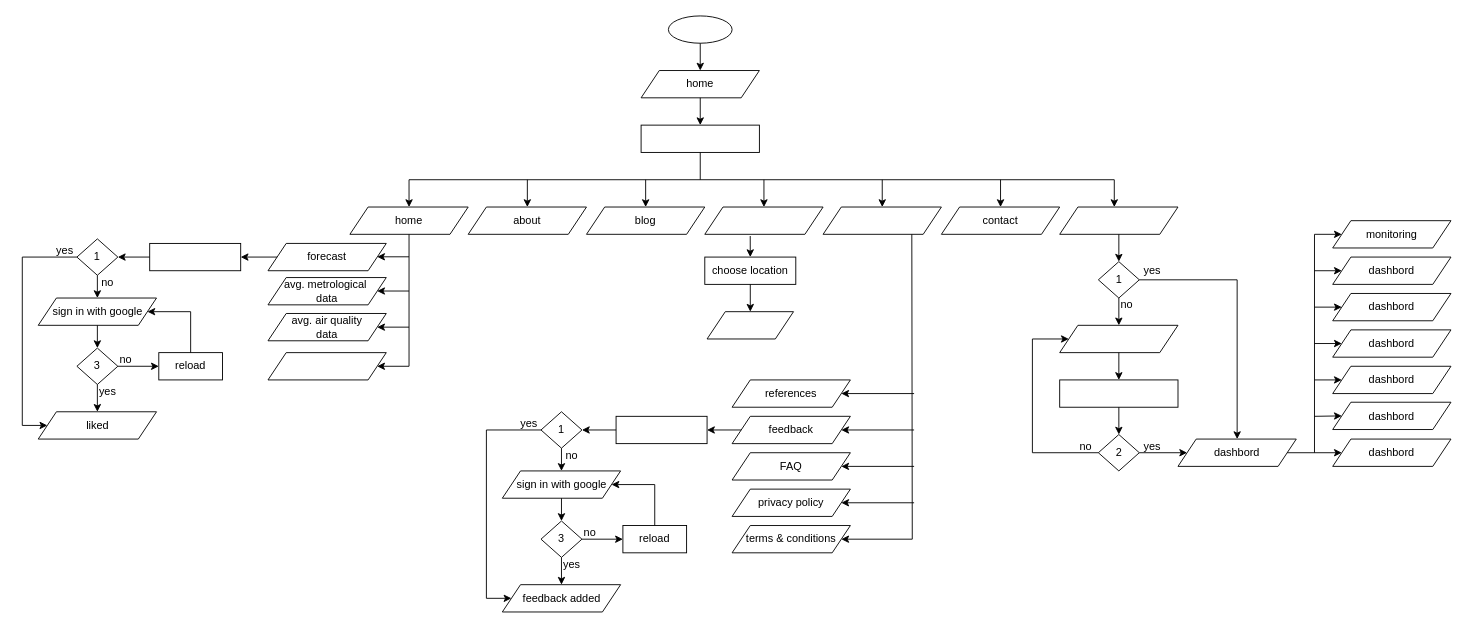
Some shapes in this 1467 by 628 pixel diagram are drawn without their labels. Each missing label, with the centre of its shape:
add feedback: (x=661, y=429)
dashboard: (x=1118, y=220)
email & password: (x=1118, y=393)
like forecast: (x=195, y=257)
location: (x=763, y=220)
login: (x=1118, y=338)
map: (x=750, y=325)
navigate between tabs: (x=699, y=138)
pages: (x=881, y=220)
start: (x=699, y=29)
weather map: (x=326, y=366)
